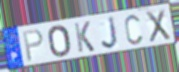C: (123, 14, 143, 47)
J: (100, 15, 120, 50)
K: (72, 20, 96, 54)
O: (46, 24, 72, 59)
P: (22, 28, 45, 64)
X: (144, 7, 172, 44)
